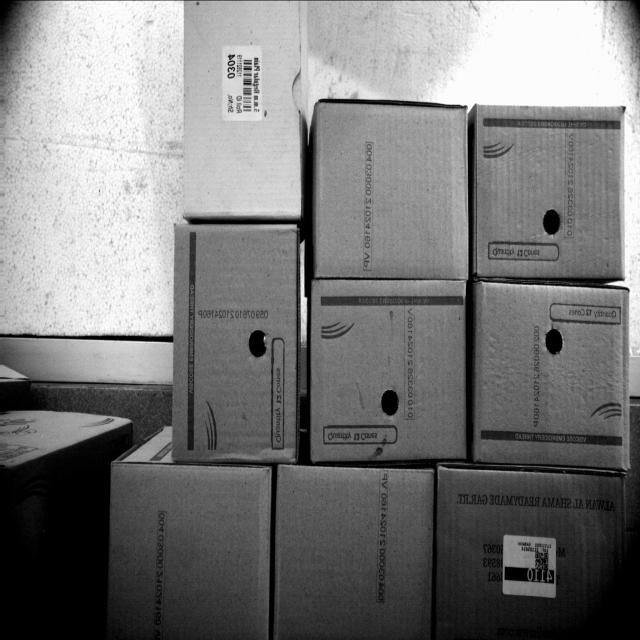cardboxes: (432, 475, 629, 639), (170, 223, 300, 461), (105, 466, 276, 639), (306, 282, 466, 464), (470, 282, 629, 464), (468, 103, 623, 279), (316, 103, 470, 279), (272, 472, 434, 639), (181, 0, 300, 218)
